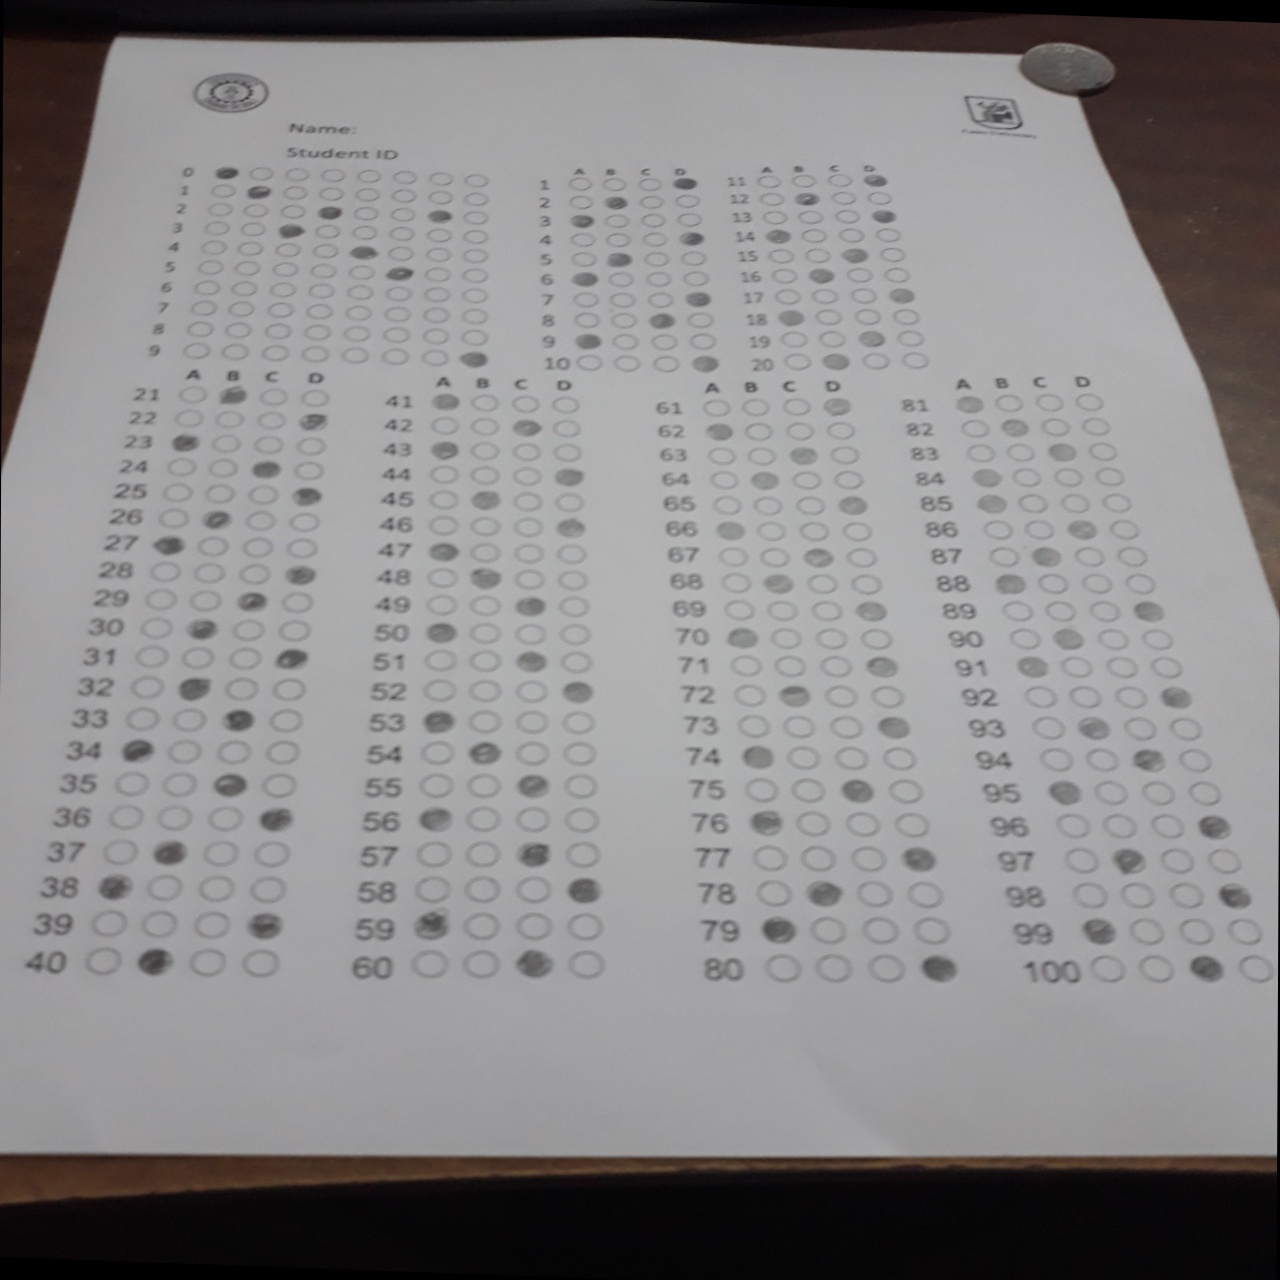not-c: (1126, 914, 1169, 948), (1089, 952, 1124, 985), (1139, 952, 1175, 983), (816, 952, 851, 983), (758, 876, 794, 907), (790, 774, 825, 805), (785, 740, 821, 771), (914, 915, 949, 946), (767, 953, 802, 983), (753, 842, 788, 872), (801, 842, 836, 872), (852, 843, 887, 873), (843, 806, 878, 837), (797, 809, 832, 839), (888, 775, 924, 805), (864, 913, 900, 942), (869, 682, 906, 710), (733, 680, 770, 708), (122, 702, 159, 730), (830, 712, 869, 738), (462, 949, 501, 976), (236, 559, 274, 586), (869, 953, 903, 983), (896, 810, 930, 840), (745, 774, 779, 804), (835, 741, 869, 771), (908, 880, 944, 910), (819, 915, 855, 945), (860, 879, 896, 908), (465, 840, 502, 869), (515, 911, 551, 939), (410, 949, 447, 978), (254, 840, 291, 869), (778, 712, 816, 738), (737, 708, 775, 735), (822, 683, 859, 710), (516, 806, 553, 833), (241, 951, 279, 978), (251, 876, 288, 903), (200, 837, 238, 864), (116, 770, 154, 797), (260, 771, 298, 798), (263, 738, 300, 765), (169, 704, 206, 731), (191, 557, 229, 584), (879, 744, 915, 771), (417, 840, 454, 867), (566, 840, 602, 867), (414, 874, 450, 901), (568, 912, 605, 939), (567, 949, 604, 976), (97, 908, 134, 935), (144, 910, 181, 937), (199, 876, 236, 903), (145, 874, 182, 901), (155, 805, 191, 832), (266, 706, 302, 733), (128, 672, 164, 699), (132, 642, 169, 669), (181, 645, 217, 672), (229, 644, 265, 670), (137, 613, 173, 640), (278, 588, 314, 615), (87, 948, 124, 974), (108, 804, 145, 830), (161, 771, 198, 797), (271, 676, 308, 702), (277, 618, 314, 644), (229, 617, 266, 642), (139, 584, 177, 610), (1230, 917, 1262, 946), (1160, 846, 1194, 874), (1170, 880, 1204, 908), (207, 806, 243, 833), (464, 805, 501, 831), (518, 877, 554, 903), (463, 877, 499, 903), (463, 913, 499, 939), (190, 949, 226, 975), (103, 839, 139, 865), (218, 738, 254, 764), (168, 737, 204, 763), (224, 674, 260, 700), (145, 558, 182, 584), (1065, 845, 1098, 873), (1239, 955, 1272, 983), (1208, 847, 1242, 874), (1123, 883, 1157, 910), (1075, 881, 1109, 908), (565, 772, 599, 799), (1085, 747, 1121, 772), (420, 740, 455, 765), (564, 808, 599, 833), (195, 912, 230, 938), (186, 588, 222, 614), (729, 653, 765, 678), (729, 598, 765, 622), (811, 598, 847, 622), (842, 544, 878, 568), (708, 492, 744, 517), (781, 418, 817, 443), (1150, 812, 1182, 840), (1101, 812, 1133, 839), (1182, 917, 1214, 944), (797, 518, 835, 542), (1039, 747, 1073, 772), (1095, 779, 1129, 805), (1166, 716, 1201, 741), (768, 598, 803, 622), (789, 467, 824, 491), (560, 709, 595, 734), (519, 741, 554, 765), (420, 772, 455, 797), (1187, 779, 1219, 806), (1058, 812, 1090, 839), (770, 627, 806, 651), (804, 571, 840, 594), (757, 545, 794, 568), (832, 467, 869, 490), (701, 395, 737, 418), (738, 421, 775, 444), (287, 511, 324, 535), (1141, 779, 1175, 804), (704, 467, 738, 491), (516, 709, 550, 734), (561, 742, 595, 767), (465, 772, 499, 797), (755, 519, 792, 542), (290, 458, 327, 481), (1123, 715, 1158, 738), (1178, 749, 1213, 772), (772, 653, 808, 676), (818, 654, 853, 678), (859, 626, 894, 649), (815, 627, 850, 651), (847, 572, 883, 595), (719, 544, 754, 567), (703, 443, 738, 467), (779, 395, 815, 418), (823, 420, 858, 443), (206, 457, 241, 481), (286, 536, 322, 558), (245, 509, 281, 531), (156, 508, 192, 530), (159, 482, 196, 504), (203, 481, 239, 503), (1030, 715, 1064, 738), (840, 518, 874, 542), (794, 493, 828, 517), (469, 709, 503, 733), (196, 535, 233, 556), (717, 568, 753, 591), (750, 492, 785, 515), (830, 444, 865, 467), (745, 444, 781, 467), (742, 396, 777, 418), (241, 536, 277, 558), (994, 392, 1026, 415), (1123, 573, 1156, 595), (1114, 686, 1146, 708), (1087, 441, 1121, 462), (981, 518, 1012, 542), (987, 545, 1017, 568), (1090, 599, 1121, 622), (1012, 627, 1042, 651), (1069, 686, 1099, 709), (515, 490, 545, 513), (513, 515, 544, 538), (215, 408, 245, 431), (297, 436, 327, 459), (960, 418, 992, 441), (1142, 628, 1173, 651), (1026, 683, 1057, 706), (428, 489, 459, 511), (556, 492, 587, 515), (554, 543, 586, 565), (428, 515, 459, 537), (468, 595, 499, 618), (469, 622, 501, 645), (1094, 467, 1126, 488), (1101, 493, 1133, 515), (1108, 519, 1141, 540), (1117, 545, 1150, 566), (1039, 416, 1071, 437), (1037, 568, 1067, 592), (1084, 572, 1114, 595), (248, 483, 278, 506), (1023, 518, 1054, 540), (1074, 547, 1104, 570), (1046, 601, 1076, 624), (1098, 628, 1129, 651), (1062, 655, 1092, 678), (551, 393, 581, 415), (470, 414, 501, 436), (512, 440, 543, 462), (552, 440, 583, 462), (515, 566, 545, 588), (558, 568, 588, 591), (559, 595, 590, 618), (427, 593, 457, 615), (513, 622, 544, 645), (424, 678, 455, 700), (470, 679, 501, 701), (518, 680, 549, 702), (256, 382, 286, 404), (298, 387, 328, 409), (1073, 392, 1107, 411), (1012, 467, 1043, 488), (509, 392, 540, 413), (468, 440, 499, 461), (470, 542, 502, 563), (1005, 442, 1037, 462), (1060, 493, 1092, 513), (1016, 492, 1049, 512), (1005, 600, 1034, 622), (430, 415, 459, 437), (430, 459, 459, 482), (472, 516, 502, 538), (561, 651, 591, 673), (472, 651, 502, 673), (166, 455, 196, 477), (178, 380, 207, 402), (213, 433, 243, 455), (254, 433, 284, 455), (1151, 656, 1182, 678), (1110, 656, 1141, 678), (552, 418, 583, 440), (468, 392, 498, 413), (470, 465, 501, 486), (512, 542, 543, 563), (429, 567, 459, 588), (173, 406, 204, 427), (966, 443, 998, 463), (1051, 468, 1083, 488), (512, 465, 542, 486), (559, 622, 588, 644), (425, 649, 455, 670), (256, 406, 285, 427), (1035, 392, 1065, 411), (1081, 416, 1112, 435), (384, 284, 414, 302), (388, 244, 417, 263), (195, 275, 222, 295), (226, 318, 253, 338), (383, 325, 411, 343), (427, 169, 455, 188), (651, 332, 679, 350), (386, 224, 415, 241), (184, 340, 211, 359), (196, 257, 223, 275), (206, 198, 233, 217), (233, 257, 260, 275), (463, 207, 490, 226), (653, 354, 680, 373), (612, 353, 639, 372), (574, 355, 601, 374), (784, 353, 811, 372), (782, 329, 809, 348), (772, 286, 799, 305), (768, 246, 795, 265), (764, 207, 791, 226), (247, 164, 275, 182), (429, 188, 457, 205), (688, 333, 714, 352), (770, 266, 796, 285), (761, 189, 787, 207), (389, 205, 418, 222), (191, 300, 218, 318), (200, 238, 227, 256), (203, 217, 230, 234), (209, 179, 236, 197), (223, 340, 250, 358), (227, 299, 254, 316), (230, 279, 257, 297), (237, 238, 264, 256), (238, 219, 265, 237), (244, 199, 271, 217), (350, 222, 377, 239), (384, 304, 411, 321), (422, 306, 449, 324), (423, 326, 450, 343), (463, 328, 490, 346), (463, 287, 490, 305), (636, 175, 663, 192), (617, 333, 644, 350), (847, 265, 874, 282), (866, 188, 893, 205), (831, 189, 858, 206), (302, 346, 331, 362), (319, 166, 347, 183), (383, 348, 411, 365), (388, 186, 416, 203), (424, 285, 452, 301), (813, 308, 842, 325), (892, 308, 920, 325), (284, 183, 309, 200), (462, 189, 488, 206), (640, 210, 666, 227), (675, 209, 701, 226), (642, 230, 668, 247), (611, 290, 636, 307), (645, 268, 670, 286), (689, 311, 715, 328), (186, 321, 213, 338), (273, 261, 300, 278), (268, 301, 295, 318), (266, 324, 293, 340), (264, 343, 291, 360), (305, 322, 332, 339), (305, 301, 332, 318), (312, 241, 339, 258), (316, 223, 343, 239), (316, 183, 343, 199), (358, 168, 384, 184), (392, 168, 418, 184), (355, 186, 382, 203), (350, 263, 377, 279), (346, 304, 373, 320), (346, 325, 373, 341), (345, 348, 372, 365), (425, 246, 452, 263), (425, 265, 452, 281), (462, 308, 489, 325), (462, 268, 489, 285), (462, 247, 489, 264), (462, 171, 489, 188), (756, 172, 783, 189), (792, 171, 819, 188), (804, 248, 831, 265), (818, 331, 845, 347), (864, 353, 891, 369), (904, 352, 931, 368), (896, 331, 922, 347), (855, 308, 881, 325), (884, 267, 911, 284), (874, 226, 901, 243), (835, 207, 862, 224), (644, 248, 668, 266), (608, 271, 633, 288), (572, 290, 597, 307), (649, 290, 674, 307), (578, 309, 602, 327), (307, 282, 335, 298), (423, 349, 451, 365), (285, 165, 311, 182), (275, 241, 301, 258), (605, 212, 631, 229), (570, 231, 595, 247), (796, 207, 822, 224), (851, 287, 877, 304), (880, 246, 906, 263), (839, 227, 865, 244), (826, 172, 852, 189), (270, 282, 297, 298), (311, 263, 338, 278), (354, 206, 381, 222), (352, 287, 379, 302), (425, 227, 452, 243), (757, 172, 784, 188), (280, 204, 305, 220), (607, 232, 632, 248), (573, 251, 598, 267), (682, 248, 707, 265), (682, 268, 707, 285), (613, 313, 638, 329), (462, 229, 488, 244), (565, 175, 591, 190), (675, 192, 701, 207), (636, 193, 662, 209), (572, 192, 598, 207), (803, 229, 829, 244), (813, 287, 839, 302), (600, 177, 626, 191)
taken-c: (413, 908, 450, 940), (512, 838, 551, 867), (465, 738, 505, 767), (561, 874, 599, 904), (418, 707, 457, 735), (1047, 776, 1084, 804), (1013, 652, 1050, 680), (760, 914, 797, 942), (513, 772, 552, 799), (1051, 626, 1088, 654), (515, 949, 551, 978), (416, 805, 452, 833), (511, 647, 549, 674), (423, 539, 461, 566), (1190, 954, 1226, 981), (1082, 917, 1118, 944), (1112, 847, 1149, 874), (1075, 713, 1111, 740), (467, 486, 502, 513), (550, 516, 586, 542), (138, 947, 171, 975), (748, 808, 782, 835), (900, 846, 935, 872), (560, 678, 595, 703), (513, 595, 549, 621), (422, 620, 458, 645), (464, 564, 501, 588), (98, 873, 131, 900), (1030, 543, 1064, 568), (806, 880, 840, 906), (920, 956, 954, 982), (222, 706, 256, 731), (874, 716, 910, 741), (839, 778, 874, 803), (1062, 515, 1095, 540), (178, 676, 211, 702), (121, 736, 154, 762), (258, 806, 291, 832), (152, 840, 185, 866), (1132, 598, 1166, 622), (1159, 683, 1193, 708), (1044, 440, 1078, 464), (972, 465, 1006, 490), (973, 490, 1007, 515), (215, 770, 248, 795), (778, 685, 813, 708), (275, 645, 307, 670), (1132, 748, 1165, 772), (1219, 883, 1252, 907), (992, 571, 1024, 595), (184, 617, 217, 641), (247, 912, 280, 937), (741, 745, 775, 769), (1198, 813, 1231, 837), (291, 485, 324, 509), (282, 561, 315, 585), (821, 392, 850, 417), (855, 599, 885, 624), (865, 653, 896, 678), (154, 535, 185, 558), (237, 588, 268, 612), (248, 458, 281, 481), (839, 493, 869, 518), (999, 415, 1029, 438), (716, 519, 747, 543), (509, 415, 540, 437), (429, 389, 461, 411), (298, 410, 329, 433), (956, 392, 986, 415), (703, 418, 733, 442), (791, 443, 821, 467), (753, 469, 782, 492), (764, 571, 794, 594), (728, 625, 757, 648), (802, 546, 832, 568), (430, 437, 461, 459), (554, 467, 585, 489), (170, 431, 202, 452), (200, 508, 232, 529), (218, 384, 248, 406), (570, 331, 601, 349), (384, 263, 414, 281), (459, 350, 489, 369), (425, 207, 456, 225), (604, 251, 632, 268), (648, 311, 676, 328), (211, 164, 240, 181), (567, 268, 597, 285), (678, 229, 704, 246), (778, 308, 805, 326), (794, 189, 821, 206), (862, 170, 888, 188), (888, 286, 915, 304), (601, 195, 629, 211), (692, 355, 717, 373), (673, 173, 699, 191), (823, 354, 849, 372), (843, 246, 869, 264), (279, 222, 306, 238), (350, 243, 377, 259), (685, 292, 712, 308), (869, 205, 896, 222), (567, 213, 595, 229), (809, 267, 835, 284), (858, 331, 884, 347), (245, 185, 272, 200), (315, 204, 342, 219), (765, 229, 792, 244)
